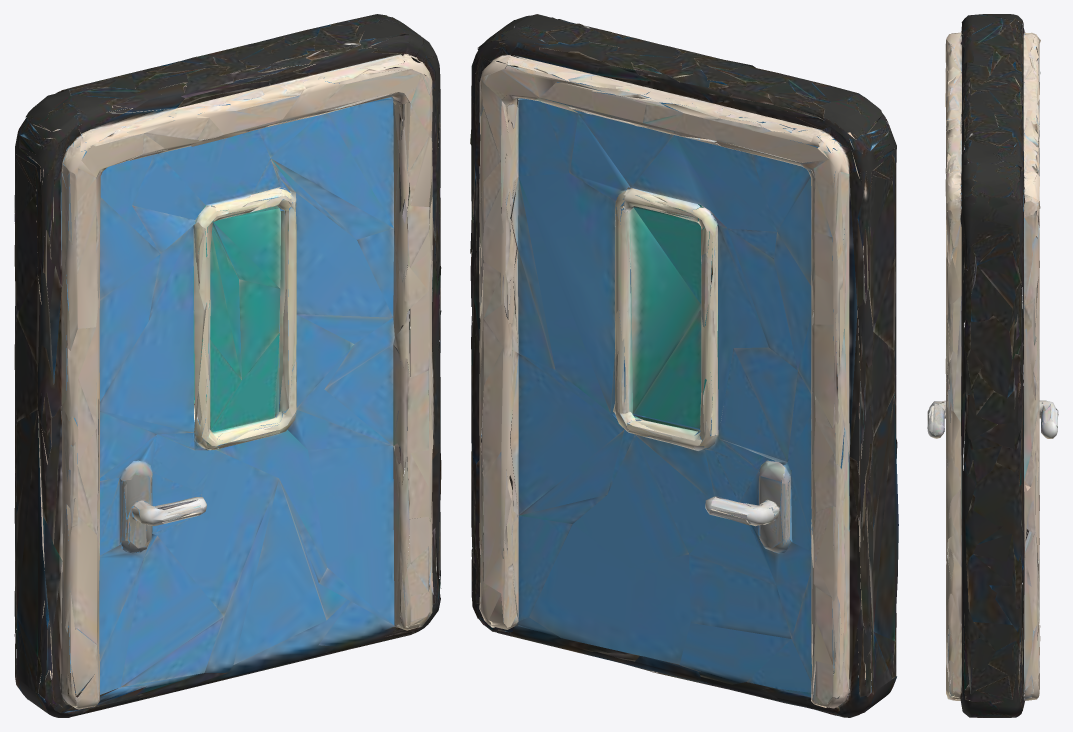
The model's file is level-door.glb.
3 renders of one model, left to right at view 1: azimuth 30°, elevation 25°; view 2: azimuth 150°, elevation 25°; view 3: azimuth 270°, elevation 25°, orthographic. The views are drawn at different scales.
Parts seen in each view (by area): view 1: Mesh_0; view 2: Mesh_0; view 3: Mesh_0.
Boxes of the visible parts, box(x1,y1,x2,y2) form: Mesh_0: box(14, 14, 441, 717); Mesh_0: box(470, 14, 898, 717); Mesh_0: box(927, 14, 1058, 717).
Size of the model in its own units: 1.32 by 1.9 by 0.4083.
Materials: 1 (1 with a texture image).
